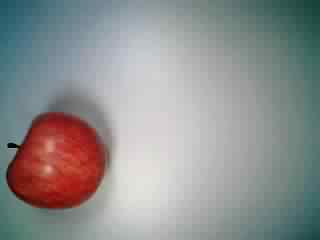apple: (5, 111, 108, 215)
